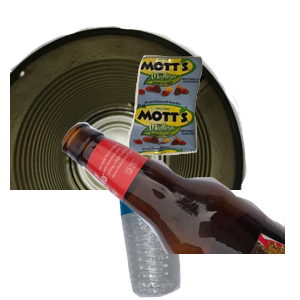glass: (60, 120, 300, 300)
metal: (10, 23, 250, 203)
plastic: (115, 176, 288, 300)
trash: (125, 53, 300, 201)
